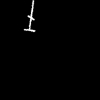double_crochet: (24, 1, 34, 31)
